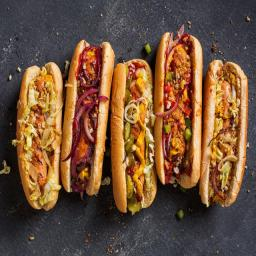hotdog: (12, 28, 248, 224)
